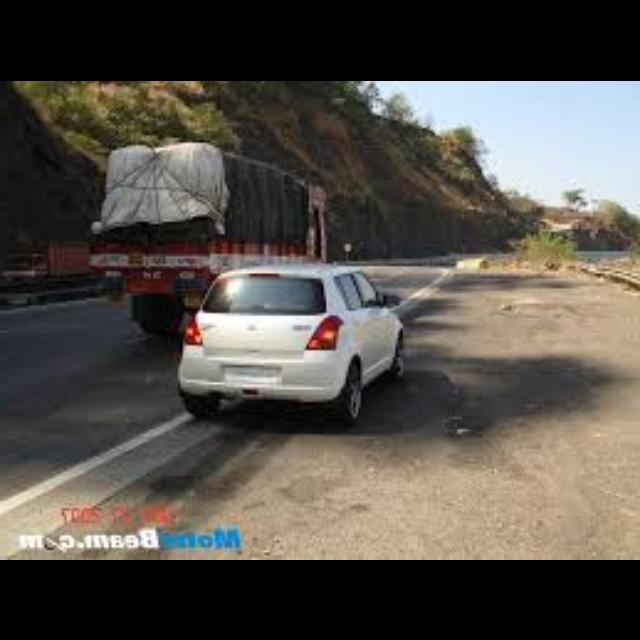vehicles: (96, 154, 328, 326), (178, 260, 408, 422)
